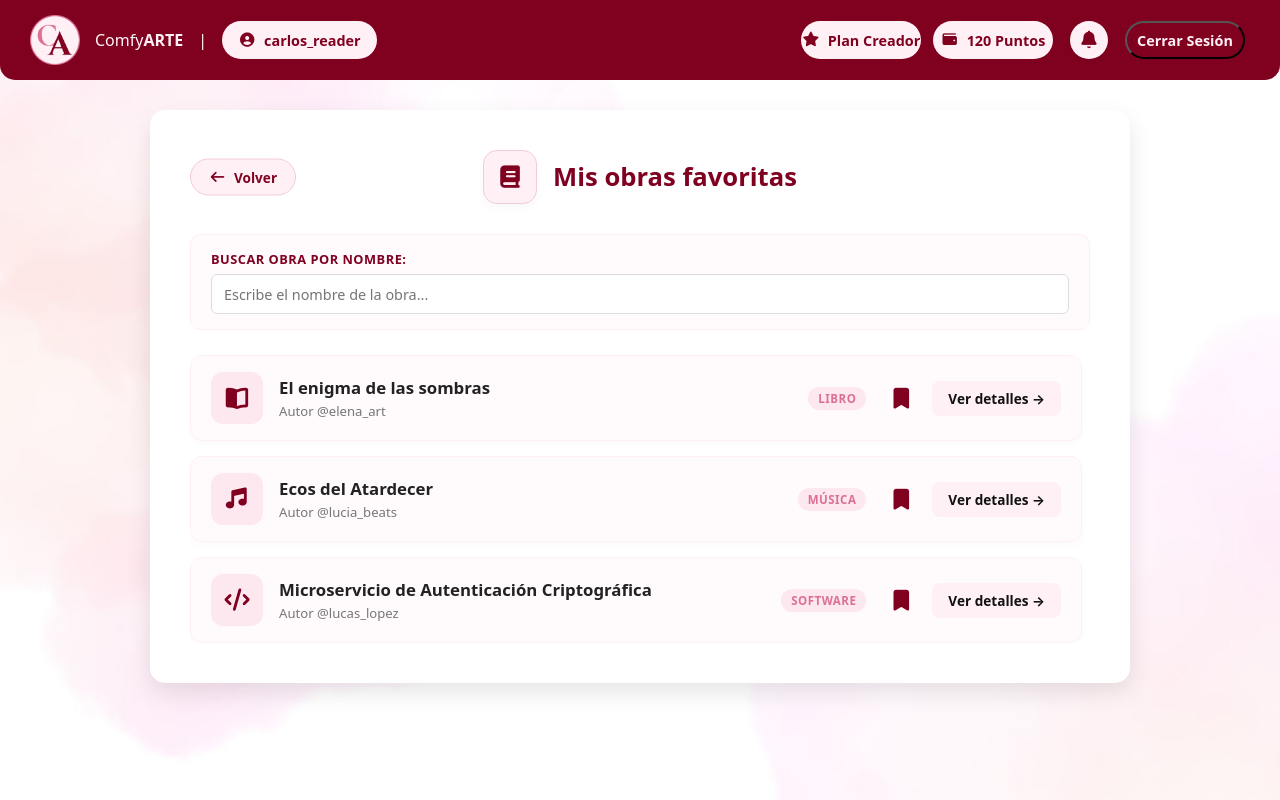
Test case: Flujo de Obras Favoritas › filtra las obras guardadas
Type "Ecos del Atardecer" into the field with class "filter-input". click: x=640, y=294
box: [211,274,1069,314]
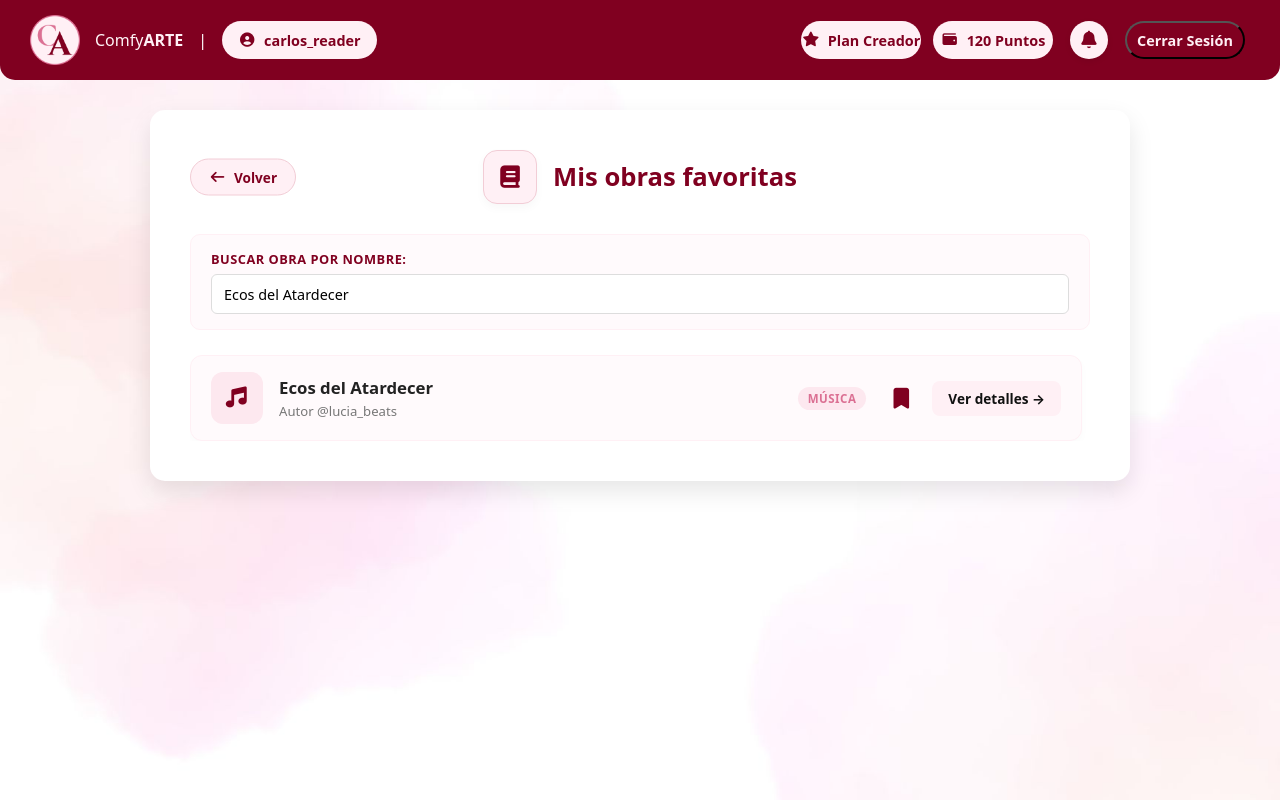
Expected: the heading "Ecos del Atardecer" is shown, [279,376,433,399]
Expected: the number of elements with class "work-custom-card" is 1, [190,355,1082,441]
Expected: the heading "El enigma de las sombras" is gone
Replace the text in the field with class "filter-input" with "Texto". click: x=640, y=294
box: [211,274,1069,314]
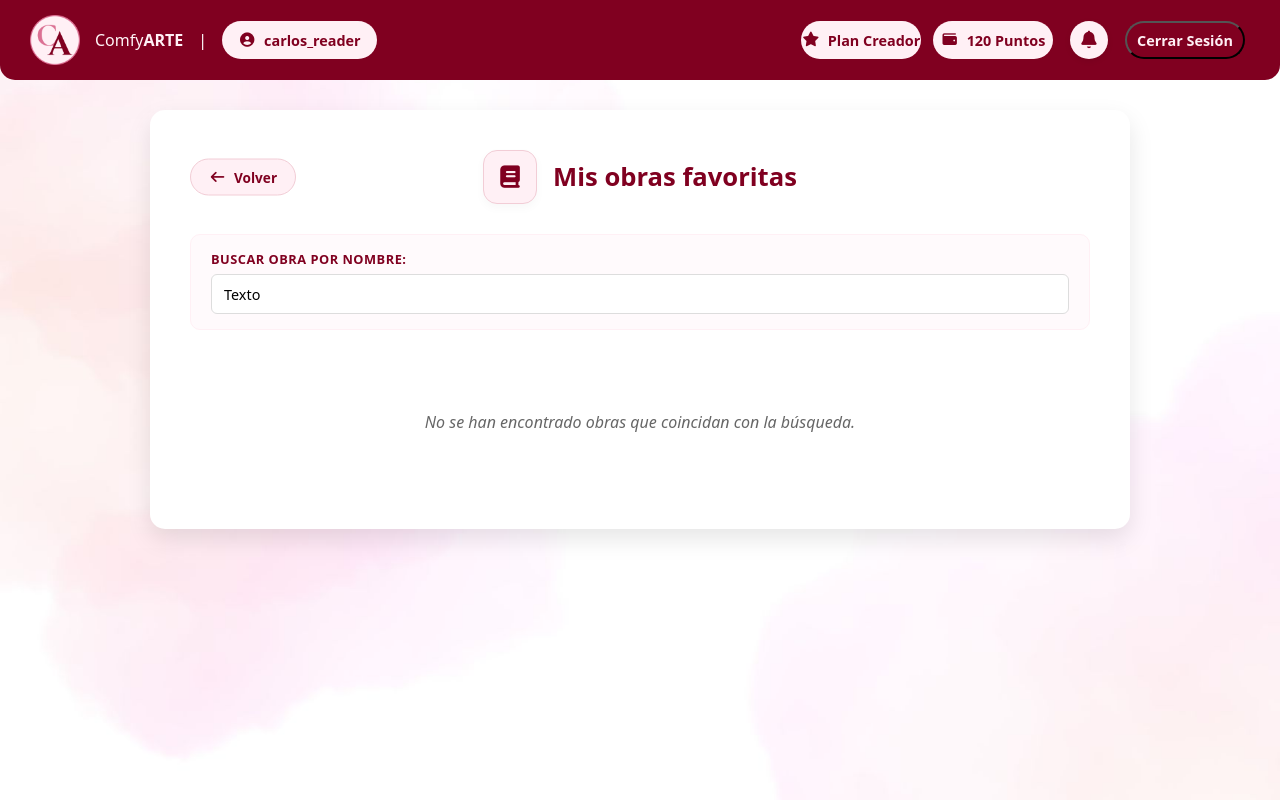
Expected: the element with class "work-custom-card" is gone
Expected: the text "No se han encontrado obras que coincidan con la búsqueda." is shown, [425,411,855,433]
